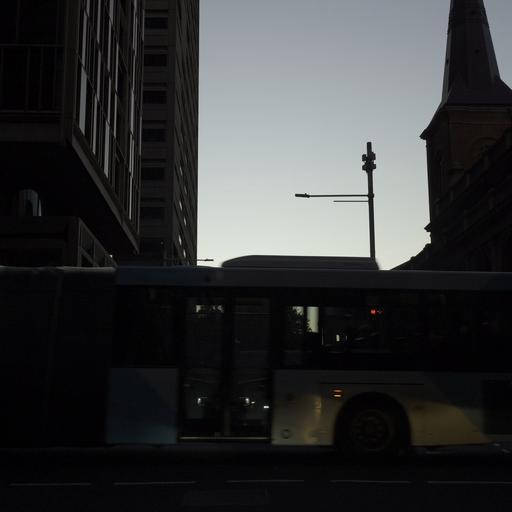Street light: (294, 140, 377, 259), (164, 256, 214, 264), (194, 257, 214, 264)
